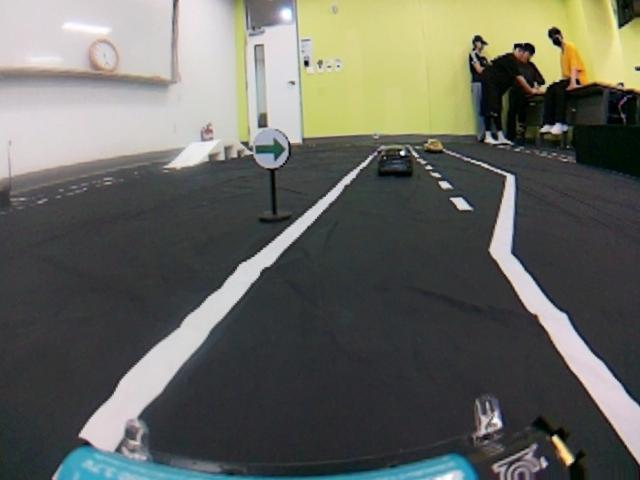car: (375, 141, 423, 182)
sign_right: (250, 126, 294, 164)
straight: (46, 262, 640, 479)
